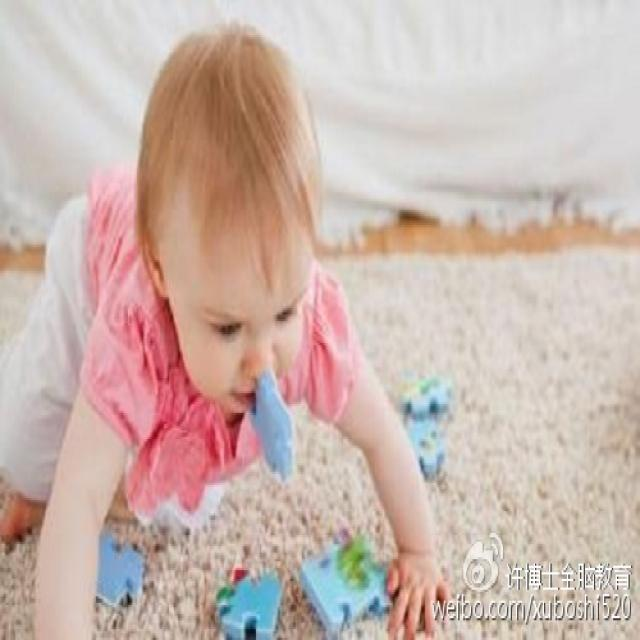fall: (34, 118, 428, 618)
